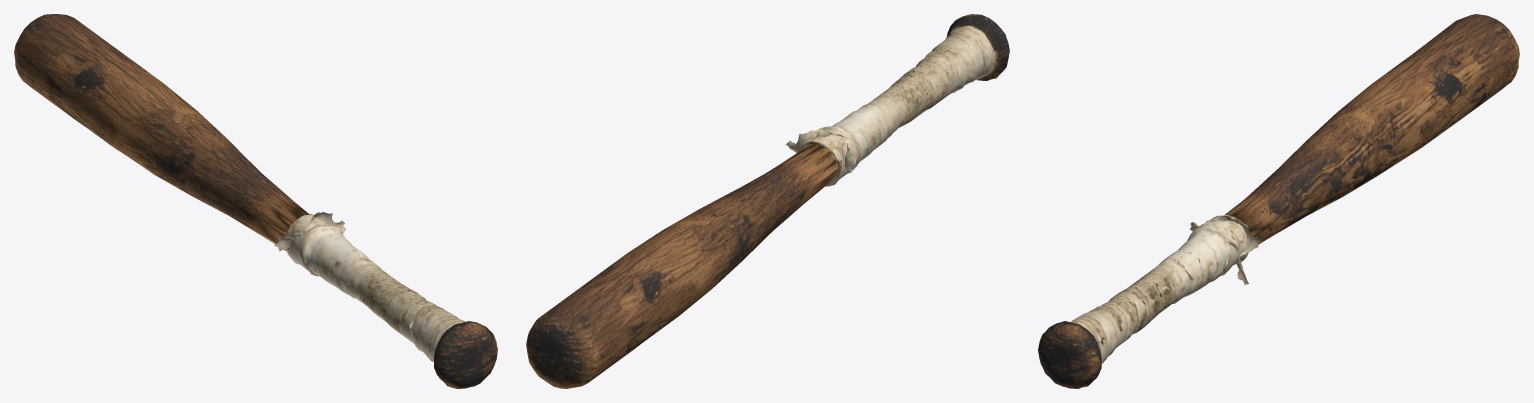
The model's file is bat.glb.
3 views of the same model, side by side, from view 1: azimuth 30°, elevation 25°; view 2: azimuth 150°, elevation 25°; view 3: azimuth 330°, elevation 25° (orthographic).
Visible parts, largest first — view 1: tripo_node_df2c57ab-5d50-4197-a7d6-44ae23e3f14b; view 2: tripo_node_df2c57ab-5d50-4197-a7d6-44ae23e3f14b; view 3: tripo_node_df2c57ab-5d50-4197-a7d6-44ae23e3f14b.
Boxes of the visible parts, x1,y1,x2,y2 form: tripo_node_df2c57ab-5d50-4197-a7d6-44ae23e3f14b: [14, 14, 497, 388]; tripo_node_df2c57ab-5d50-4197-a7d6-44ae23e3f14b: [526, 14, 1009, 388]; tripo_node_df2c57ab-5d50-4197-a7d6-44ae23e3f14b: [1038, 14, 1519, 388].
Bounding box in the file's own units: 0.0957 × 0.0957 × 0.998.
Materials: 1 (1 with a texture image).
